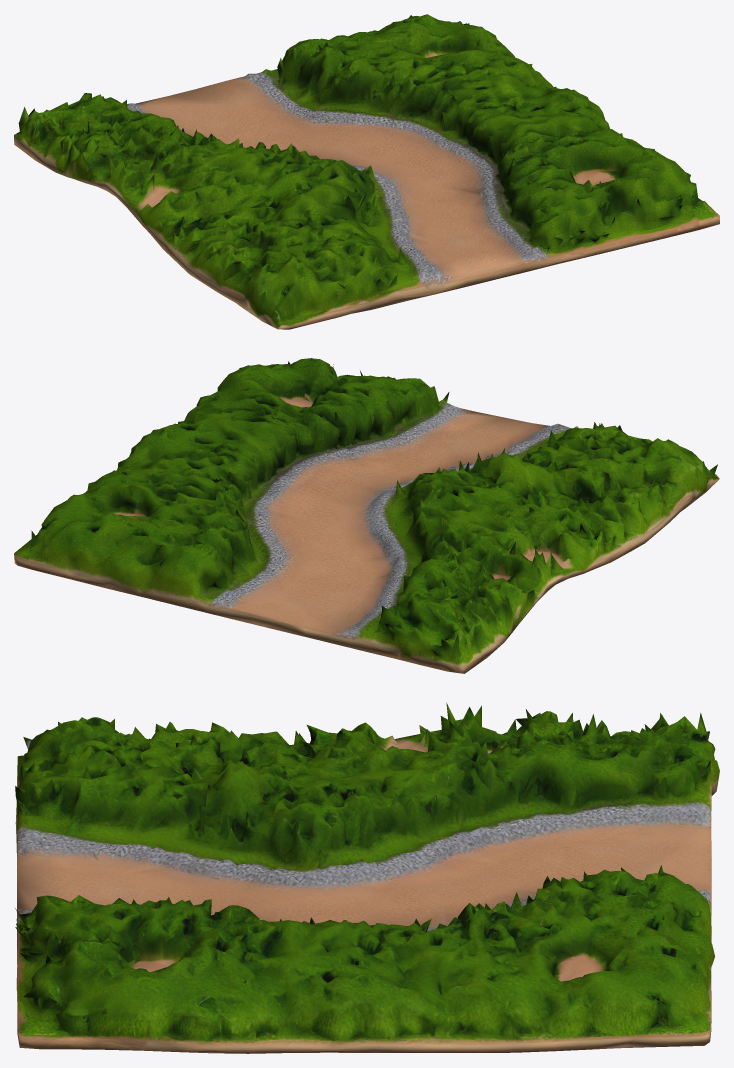
The model's file is zemin.fbx.
3 renders of one model, top to bottom at view 1: azimuth 30°, elevation 25°; view 2: azimuth 150°, elevation 25°; view 3: azimuth 270°, elevation 25°, orthographic. The views are drawn at different scales.
Visible parts, largest first — view 1: Mesh_0; view 2: Mesh_0; view 3: Mesh_0.
Part boxes in pixels (left/top/right/bottom): Mesh_0: left=14, top=14, right=719, bottom=329; Mesh_0: left=14, top=358, right=719, bottom=673; Mesh_0: left=15, top=702, right=719, bottom=1053.
Size of the model in its own units: 190 by 21.9 by 190.
Materials: 1 (1 with a texture image).
